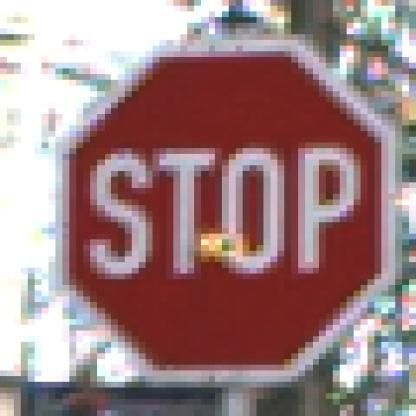Stop: (61, 51, 387, 376)
